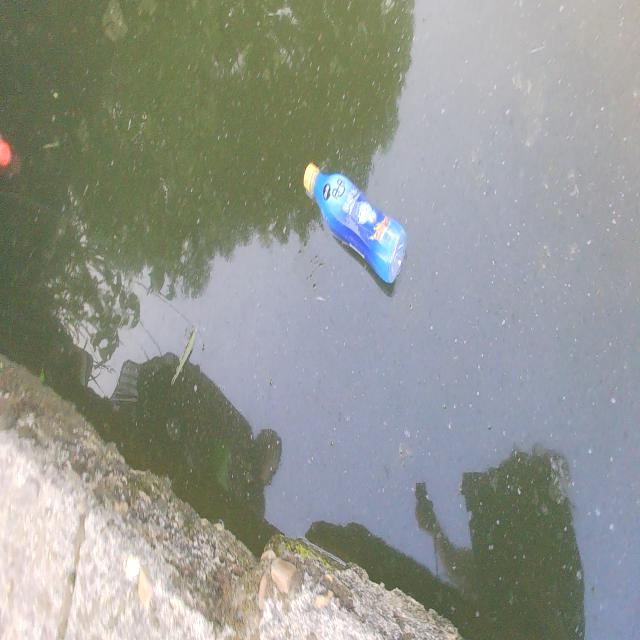bottle: (292, 138, 422, 306)
